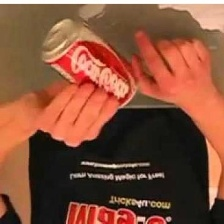can: (35, 13, 143, 116)
